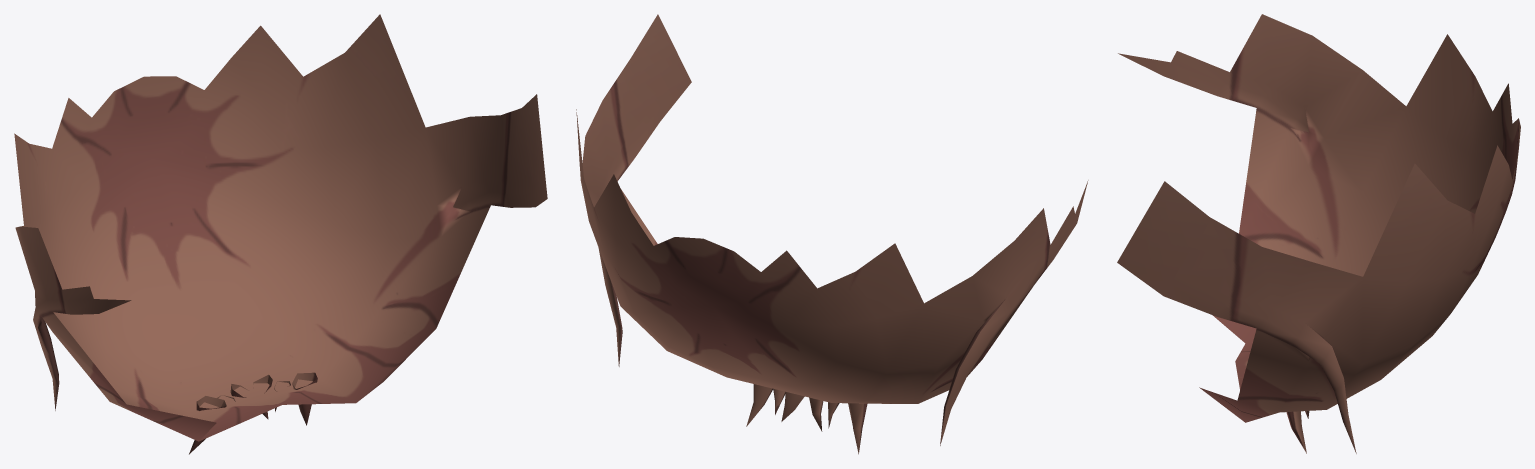
The model's file is hairtailknight.glb.
3 views of the same model, side by side, from view 1: azimuth 30°, elevation 25°; view 2: azimuth 150°, elevation 25°; view 3: azimuth 270°, elevation 25° (orthographic). The views are drawn at different scales.
Parts seen in each view (by area): view 1: hairtailknight; view 2: hairtailknight; view 3: hairtailknight.
Part boxes in pixels (x1,y1,x2,y2): hairtailknight: (14,14,547,454); hairtailknight: (576,14,1088,454); hairtailknight: (1117,14,1520,453).
Bounding box in the file's own units: 0.8684 × 0.6163 × 0.6366.
1 material, 1 textured.
